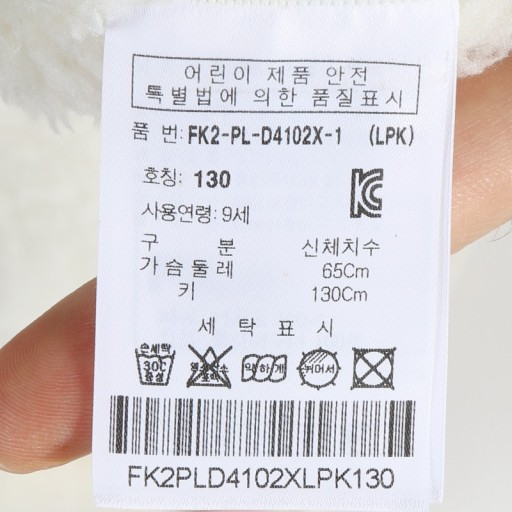KR_flat_dry_in_shade: (294, 343, 342, 392)
KR_gentle_wring: (239, 348, 288, 385)
KR_hand_wash_30_neutral: (131, 339, 177, 390)
KR_no_bleach: (184, 341, 232, 392)
KR_no_tumble_dry: (348, 344, 401, 394)
